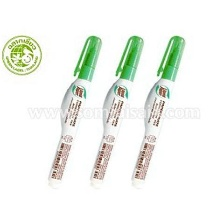correction_fluid: (44, 33, 104, 192), (86, 34, 147, 190), (129, 33, 188, 190)
